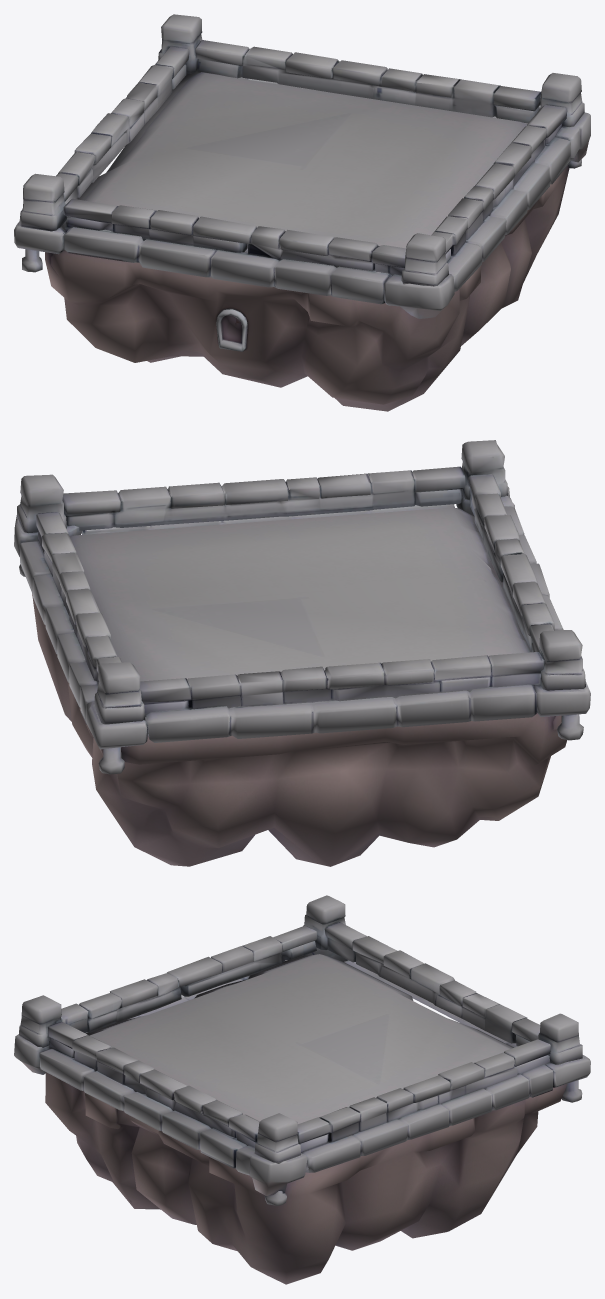
The model's file is island.glb.
3 views of the same model, one above another, from view 1: azimuth 30°, elevation 25°; view 2: azimuth 150°, elevation 25°; view 3: azimuth 270°, elevation 25° (orthographic). The views are drawn at different scales.
Parts seen in each view (by area): view 1: tripo_node_7f5123d5-dde0-42bc-837d-efdf9db8aeb2; view 2: tripo_node_7f5123d5-dde0-42bc-837d-efdf9db8aeb2; view 3: tripo_node_7f5123d5-dde0-42bc-837d-efdf9db8aeb2.
Boxes of the visible parts, x1,y1,x2,y2 form: tripo_node_7f5123d5-dde0-42bc-837d-efdf9db8aeb2: [14, 14, 590, 411]; tripo_node_7f5123d5-dde0-42bc-837d-efdf9db8aeb2: [14, 440, 590, 866]; tripo_node_7f5123d5-dde0-42bc-837d-efdf9db8aeb2: [14, 895, 590, 1284].
Bounding box in the file's own units: 1.37 × 0.5488 × 1.38.
Materials: 1 (1 with a texture image).
